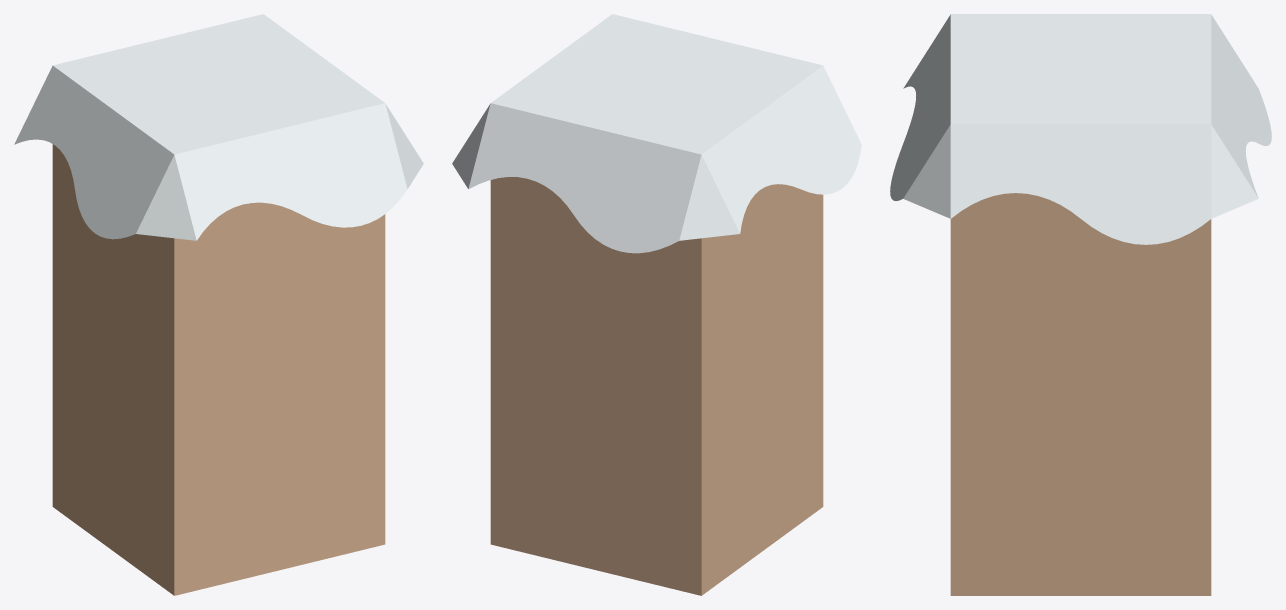
3 views of the same model, side by side, from view 1: azimuth 30°, elevation 25°; view 2: azimuth 150°, elevation 25°; view 3: azimuth 270°, elevation 25° (orthographic). The views are drawn at different scales.
Parts seen in each view (by area): view 1: blockSnowQuarter; view 2: blockSnowQuarter; view 3: blockSnowQuarter.
Part boxes in pixels (x1,y1,x2,y2): blockSnowQuarter: [14, 14, 423, 595]; blockSnowQuarter: [452, 14, 861, 595]; blockSnowQuarter: [890, 14, 1271, 595].
Size of the model in its own units: 0.733 by 1 by 0.733.
